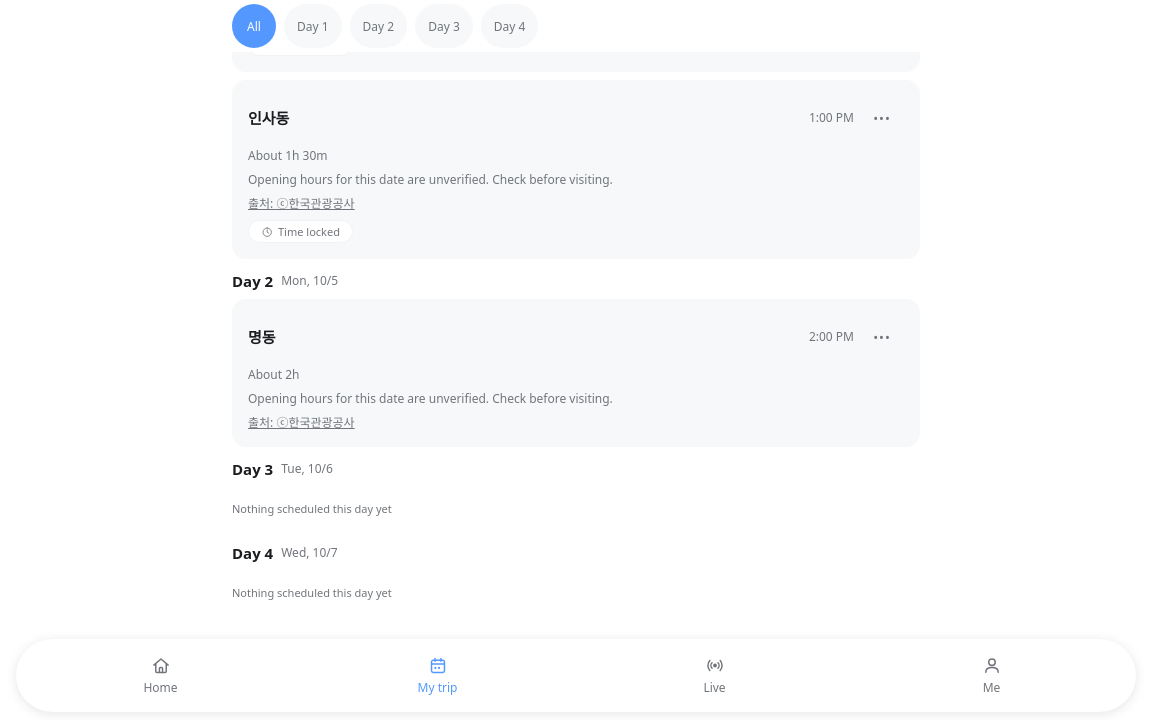
FE-307-T1 RESERVATION is never offered as a toggle › offers TIME for an item that has a time to pin
This screenshot has width=1152, height=720.
(page scrolled)
Click the button "•••" next to "2:00 PM".
click(882, 337)  # box [860,315,904,359]
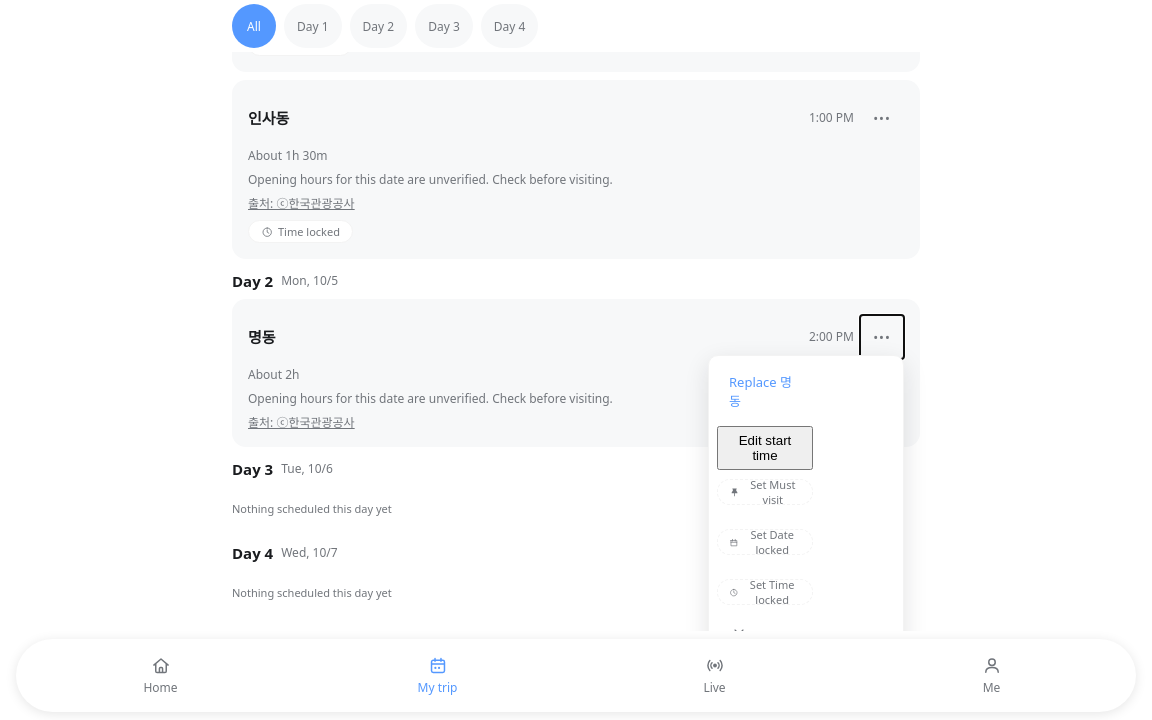
Result: the button "Set Time locked" is shown at [717,570,813,614]
